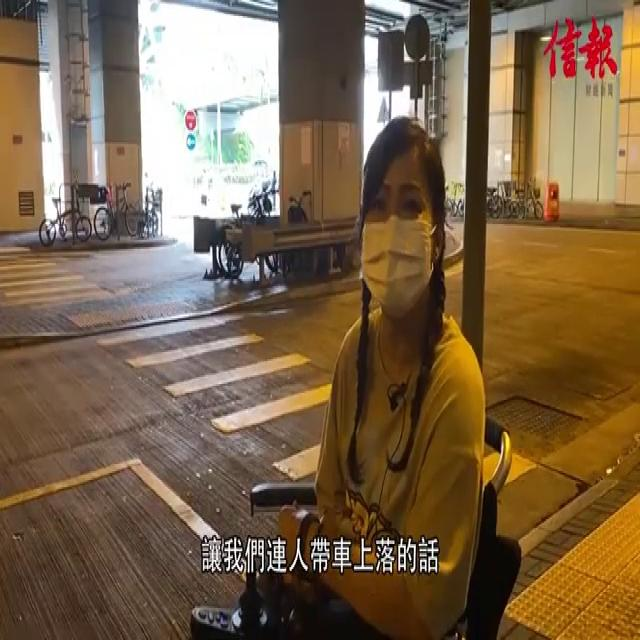wheelchairs: (188, 376, 530, 640)
